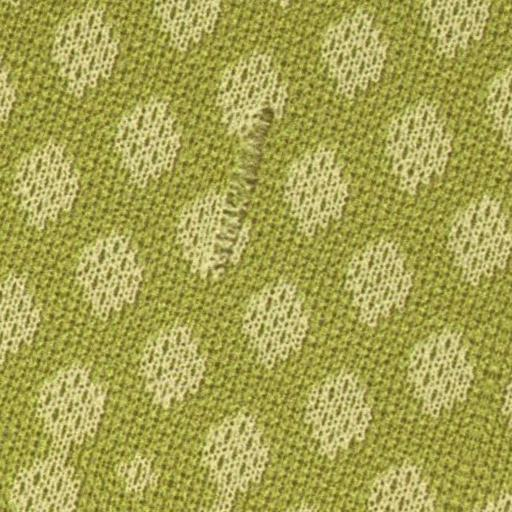slub: (210, 103, 274, 270)
